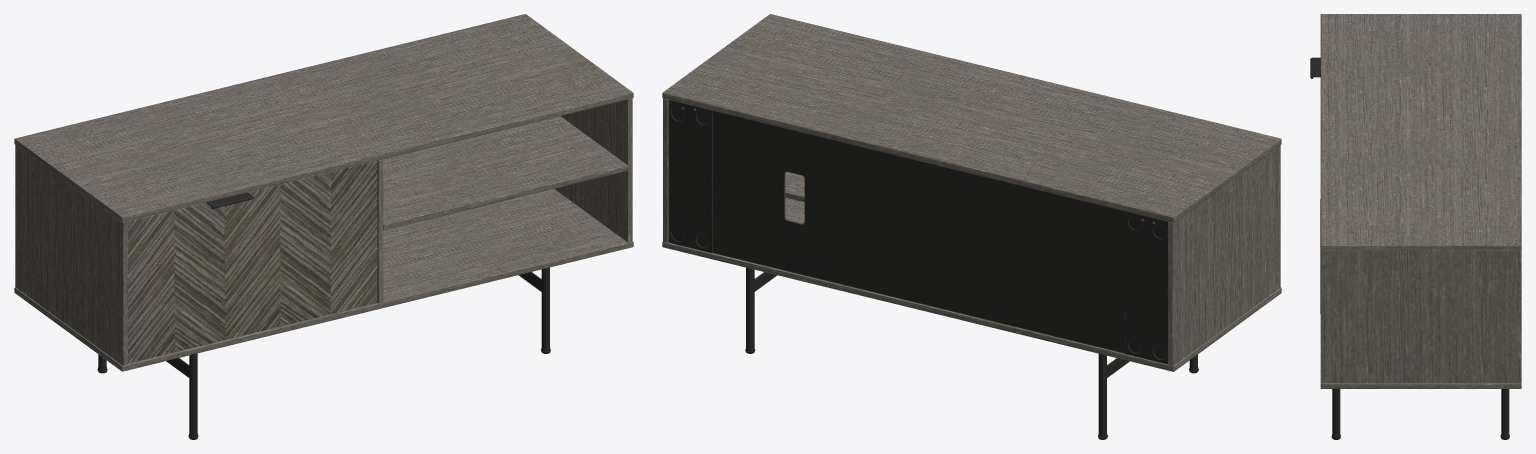
The model's file is abo-B07QJLYCBS.glb.
The picture shows the model from 3 angles, left to right: view 1: azimuth 30°, elevation 25°; view 2: azimuth 150°, elevation 25°; view 3: azimuth 270°, elevation 25°; orthographic projection. The views are drawn at different scales.
Size of the model in its own units: 1.3 by 0.599 by 0.5.
1 material, 1 textured.
